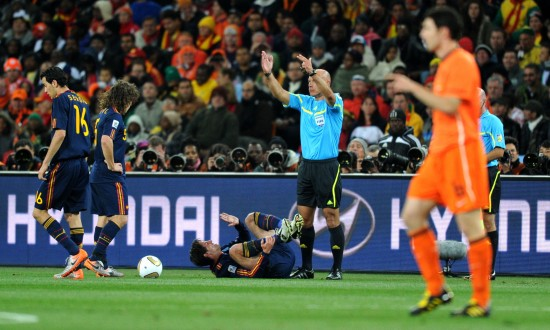10+: (1, 1, 549, 319)
down: (184, 206, 311, 289)
